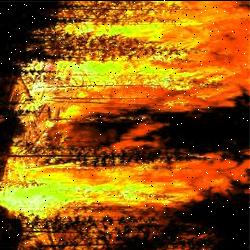fire: (0, 7, 208, 214)
